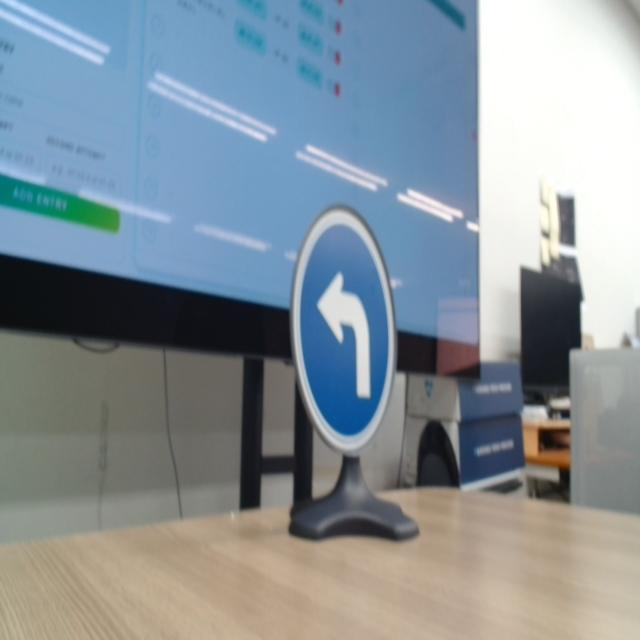left_direction: (275, 186, 411, 481)
